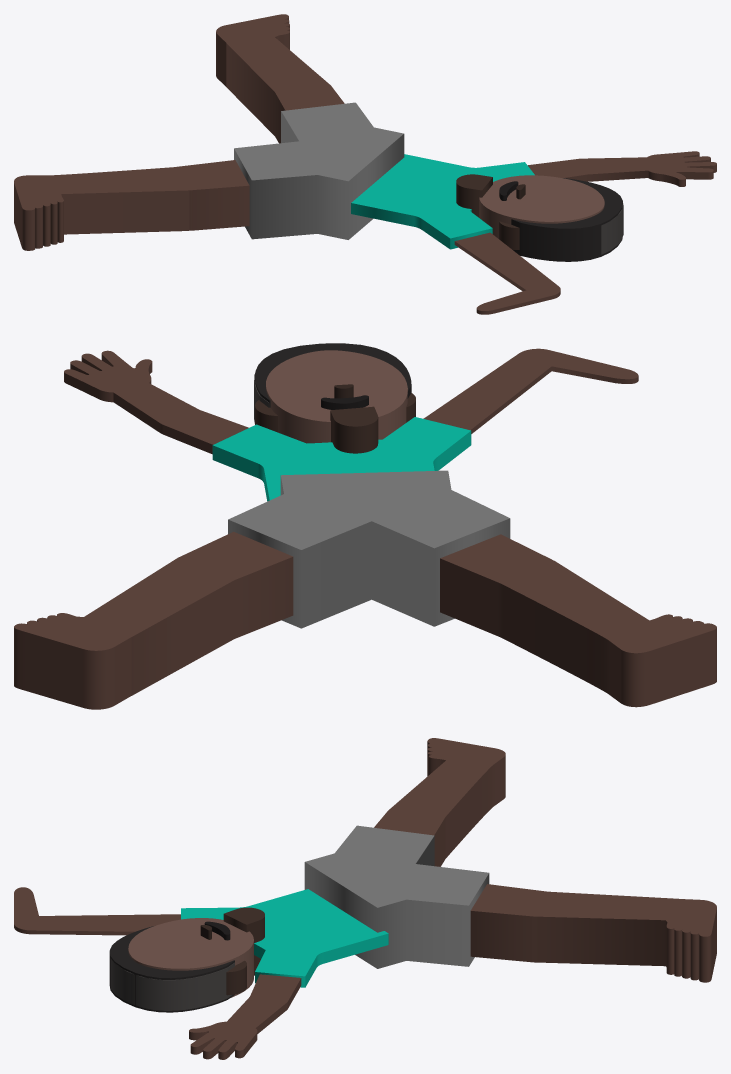
File: emoji_u1f938_1f3ff_200d_2642.glb
3 renders of one model, top to bottom at view 1: azimuth 30°, elevation 25°; view 2: azimuth 150°, elevation 25°; view 3: azimuth 270°, elevation 25°, orthographic. The views are drawn at different scales.
Parts seen in each view (by area): view 1: emoji_u1f938_1f3ff_200d_2642; view 2: emoji_u1f938_1f3ff_200d_2642; view 3: emoji_u1f938_1f3ff_200d_2642.
Part boxes in pixels (box(x1,y1,x2,y2)): emoji_u1f938_1f3ff_200d_2642: box(14, 14, 716, 314); emoji_u1f938_1f3ff_200d_2642: box(14, 343, 716, 709); emoji_u1f938_1f3ff_200d_2642: box(14, 738, 716, 1059).
Size of the model in its own units: 0.0333 by 0.0032 by 0.0333.
